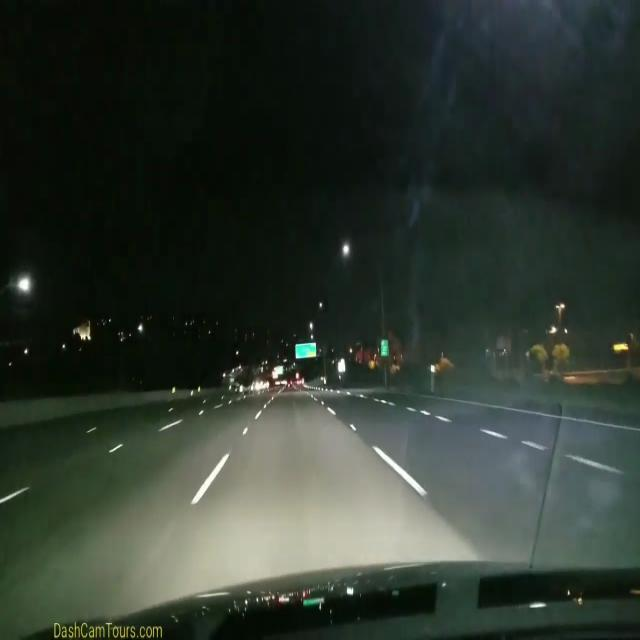street-signs: (295, 343, 317, 358), (381, 338, 388, 356)
